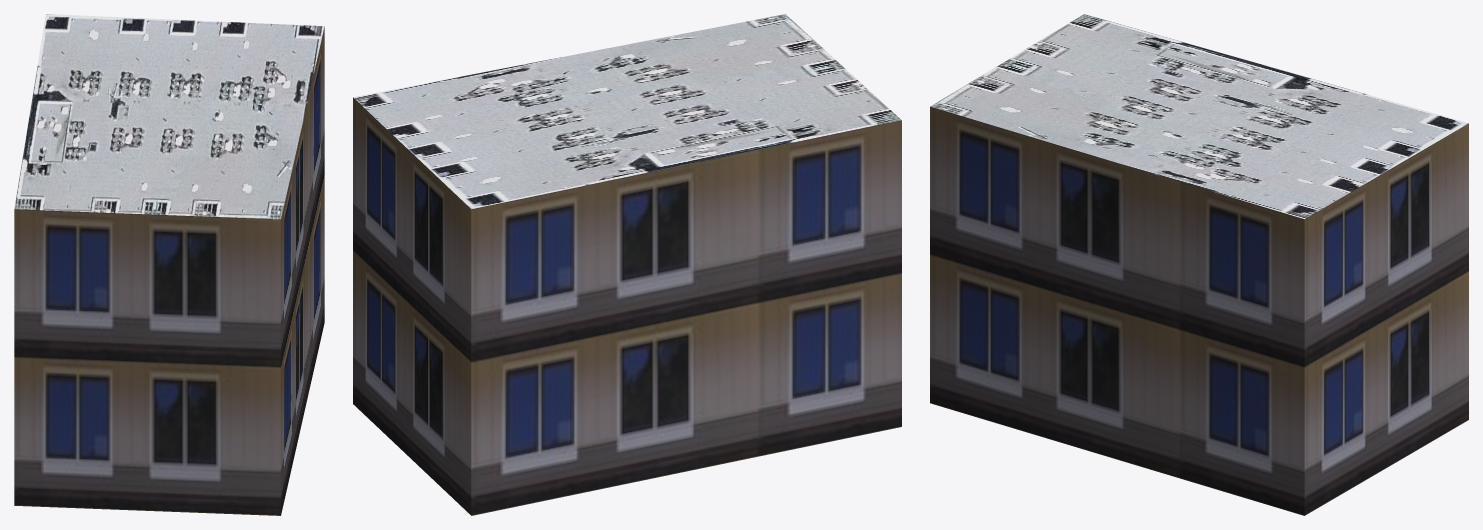
File: ResTex__167.fbx
The picture shows the model from 3 angles, left to right: view 1: azimuth 30°, elevation 25°; view 2: azimuth 150°, elevation 25°; view 3: azimuth 270°, elevation 25°; orthographic projection. The views are drawn at different scales.
Visible parts, largest first — view 1: CityEngineMaterial_5_m, CityEngineMaterial_2_m; view 2: CityEngineMaterial_5_m, CityEngineMaterial_2_m; view 3: CityEngineMaterial_5_m, CityEngineMaterial_2_m.
Boxes of the visible parts, box(x1,y1,x2,y2) form: CityEngineMaterial_5_m: box(14, 27, 324, 515); CityEngineMaterial_2_m: box(14, 14, 324, 219); CityEngineMaterial_5_m: box(353, 97, 901, 515); CityEngineMaterial_2_m: box(353, 14, 901, 209); CityEngineMaterial_5_m: box(930, 106, 1468, 515); CityEngineMaterial_2_m: box(930, 14, 1468, 219).
Bounding box in the file's own units: 8.9 × 6 × 9.88.
2 materials, 2 textured.
